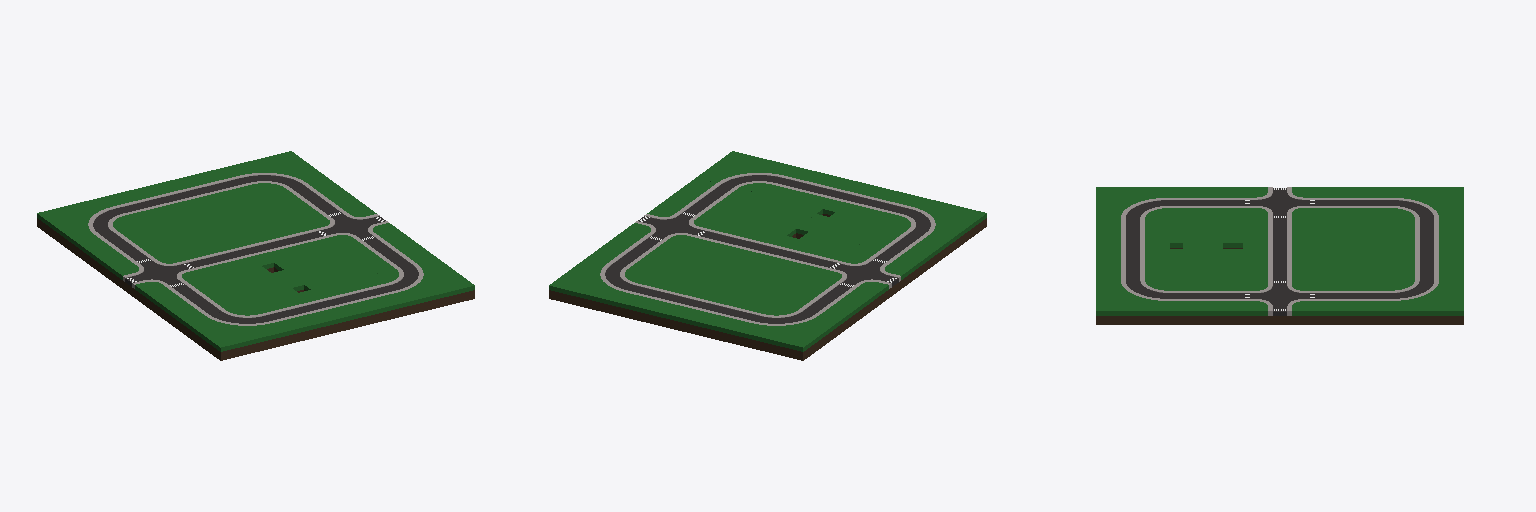
Rendered from Road.obj.
The picture shows the model from 3 angles: view 1: azimuth 30°, elevation 25°; view 2: azimuth 150°, elevation 25°; view 3: azimuth 270°, elevation 25°; orthographic projection.
Parts seen in each view (by area): view 1: Road; view 2: Road; view 3: Road.
Part boxes in pixels (x1,y1,x2,y2): Road: (37, 151, 474, 360); Road: (549, 151, 986, 360); Road: (1096, 187, 1463, 324).
Bounding box in the file's own units: 120 × 6 × 150.